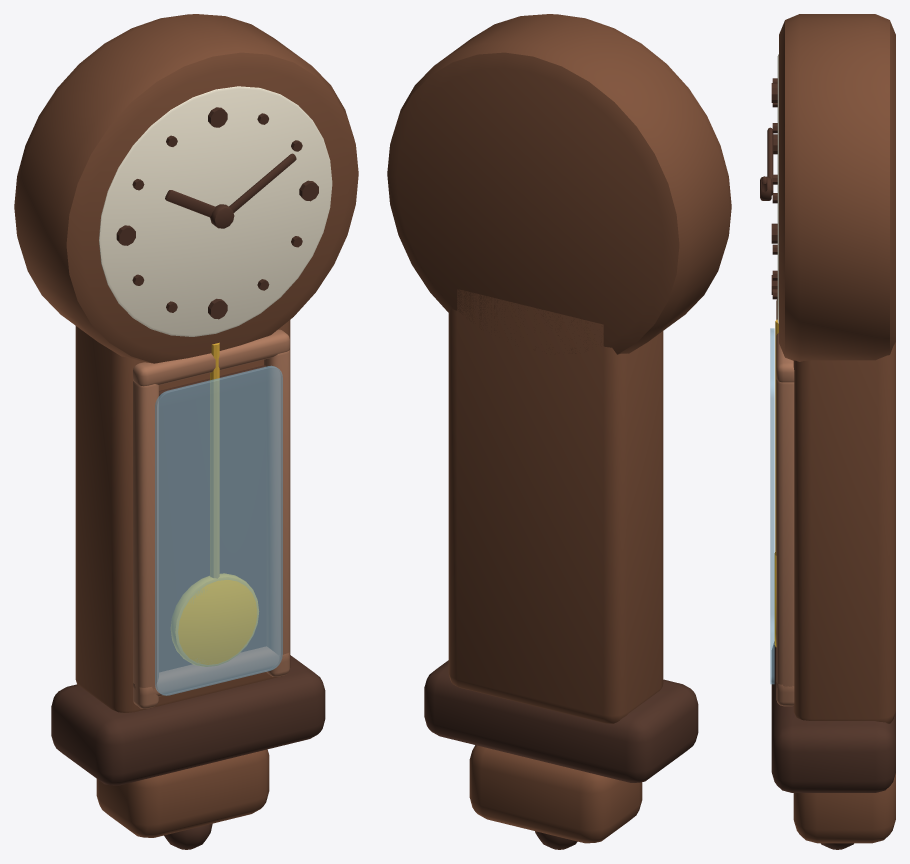
The model's file is relogio_parede_pendulo.glb.
3 views of the same model, side by side, from view 1: azimuth 30°, elevation 25°; view 2: azimuth 150°, elevation 25°; view 3: azimuth 270°, elevation 25° (orthographic).
Parts seen in each view (by area): view 1: relogio_parede_pendulo; view 2: relogio_parede_pendulo; view 3: relogio_parede_pendulo.
Part boxes in pixels (left/top/right/bottom): relogio_parede_pendulo: left=14, top=14, right=358, bottom=849; relogio_parede_pendulo: left=387, top=14, right=731, bottom=849; relogio_parede_pendulo: left=760, top=14, right=895, bottom=849.
Bounding box in the file's own units: 0.24 × 0.618 × 0.093.
Materials: 2 (1 with a texture image).
